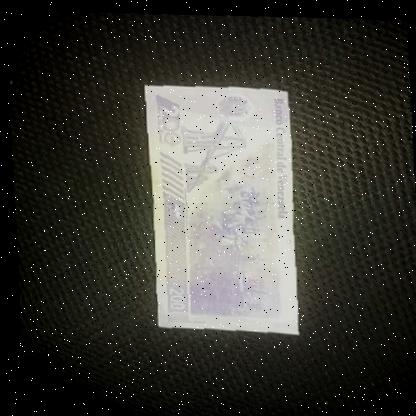two_hundred-back-vef: (138, 79, 299, 332)
